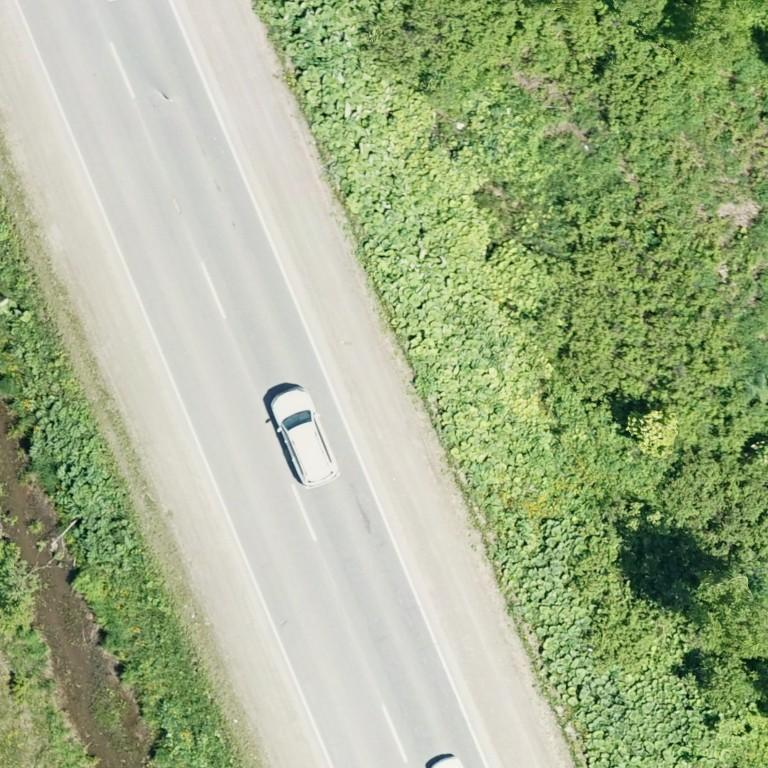hogweed: (9, 320, 140, 575), (412, 357, 434, 396), (294, 48, 331, 70)
